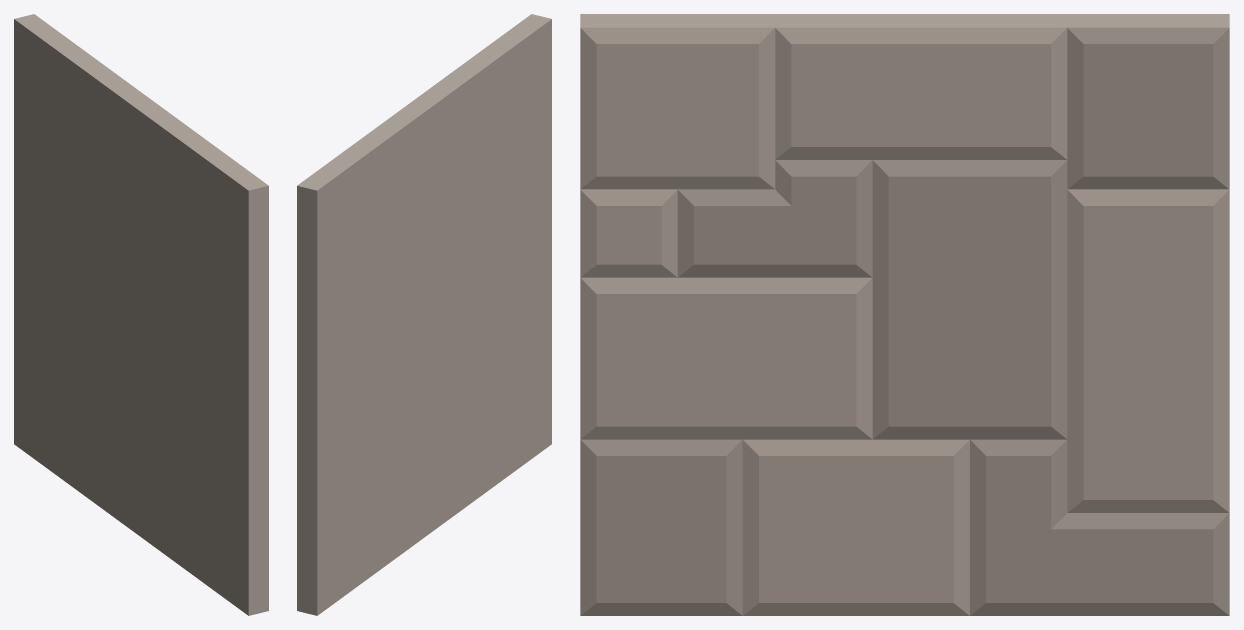
The model's file is Stone_Wall_4.glb.
The picture shows the model from 3 angles, left to right: view 1: azimuth 30°, elevation 25°; view 2: azimuth 150°, elevation 25°; view 3: azimuth 270°, elevation 25°; orthographic projection. The views are drawn at different scales.
Visible parts, largest first — view 1: object1; view 2: object1; view 3: object1.
Part boxes in pixels (bbox=[...]): object1: bbox=[14, 14, 268, 615]; object1: bbox=[297, 14, 551, 615]; object1: bbox=[580, 14, 1229, 615].
Size of the model in its own units: 0.0563 by 1 by 1.
